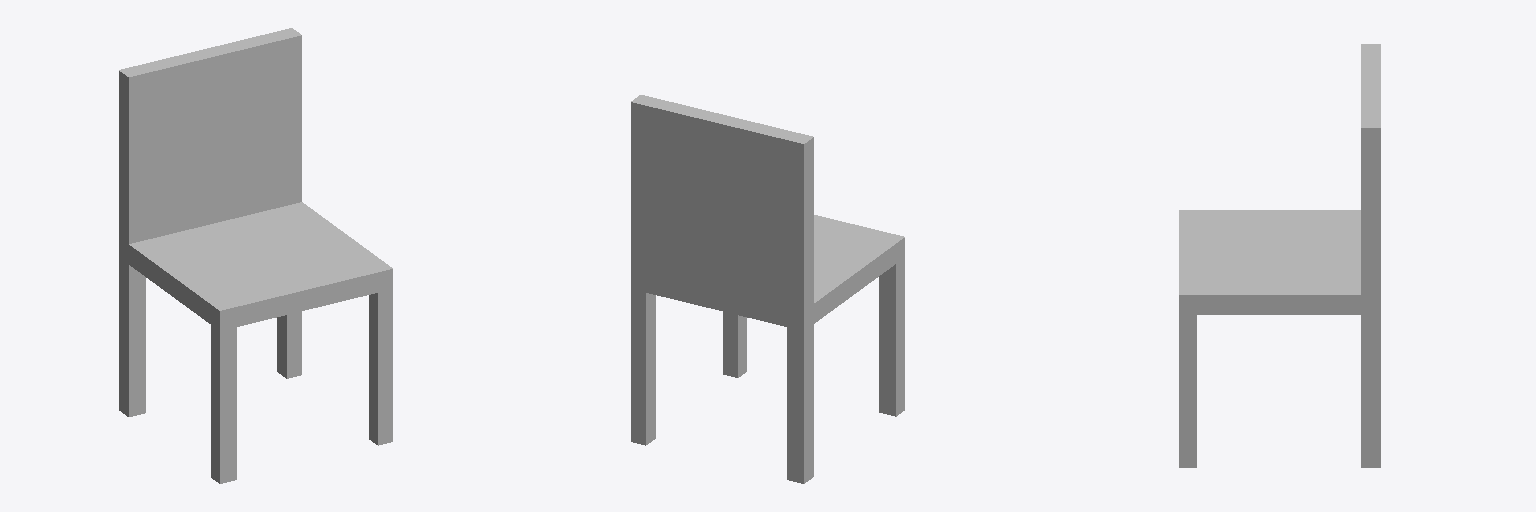
The model's file is chair.obj.
The picture shows the model from 3 angles: view 1: azimuth 30°, elevation 25°; view 2: azimuth 150°, elevation 25°; view 3: azimuth 270°, elevation 25°; orthographic projection.
Visible parts, largest first — view 1: Chair; view 2: Chair; view 3: Chair.
Boxes of the visible parts, <box> form: Chair: <box>119,28,392,483</box>; Chair: <box>631,95,904,483</box>; Chair: <box>1179,44,1380,467</box>.
Bounding box in the file's own units: 1.86 × 3.48 × 1.88.